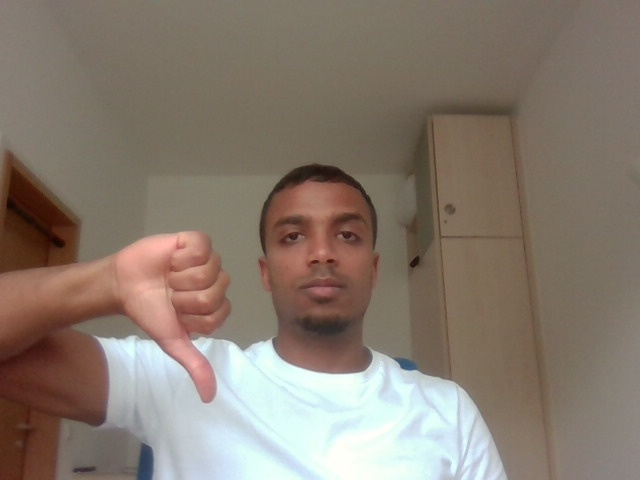no: (97, 210, 241, 422)
